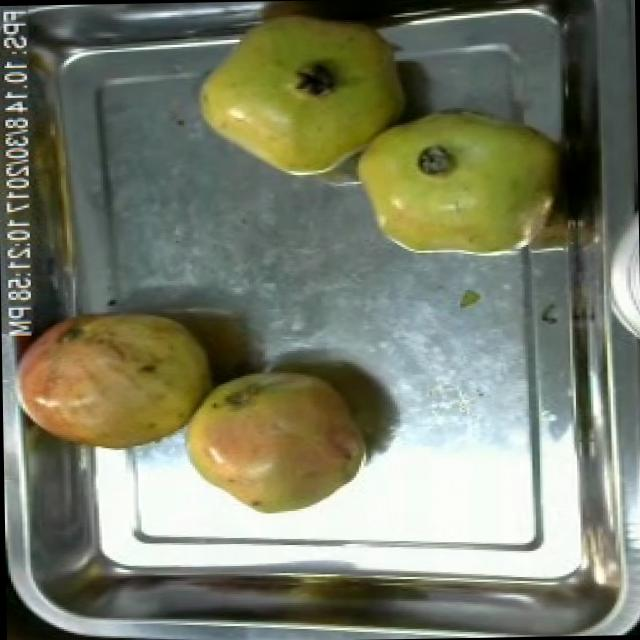fruit: (181, 2, 424, 190), (334, 91, 576, 272), (170, 361, 380, 519), (7, 304, 216, 456)
